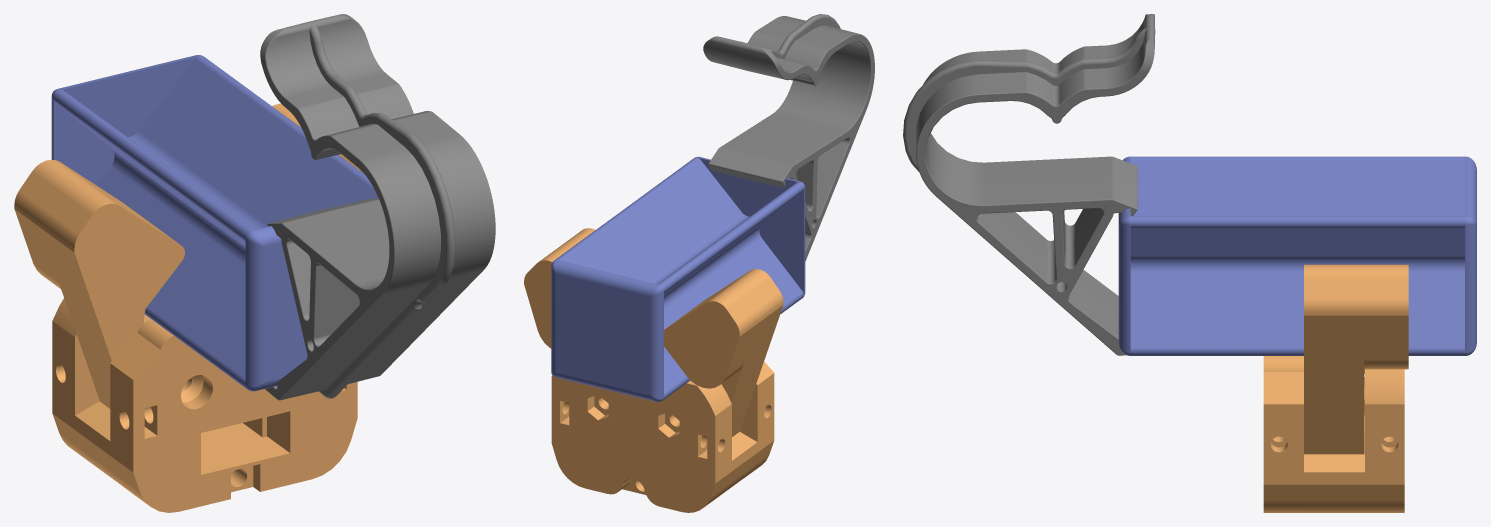
Rendered from Clawthing.glb.
3 renders of one model, left to right at view 1: azimuth 30°, elevation 25°; view 2: azimuth 150°, elevation 25°; view 3: azimuth 270°, elevation 25°, orthographic. The views are drawn at different scales.
Visible parts, largest first — view 1: Specimen AutoClaw 2 v23; view 2: Specimen AutoClaw 2 v23; view 3: Specimen AutoClaw 2 v23.
Boxes of the visible parts, <box> form: Specimen AutoClaw 2 v23: <box>14,14,495,512</box>; Specimen AutoClaw 2 v23: <box>524,14,874,512</box>; Specimen AutoClaw 2 v23: <box>903,14,1476,512</box>.
Size of the model in its own units: 7.39 by 12.44 by 14.26.
